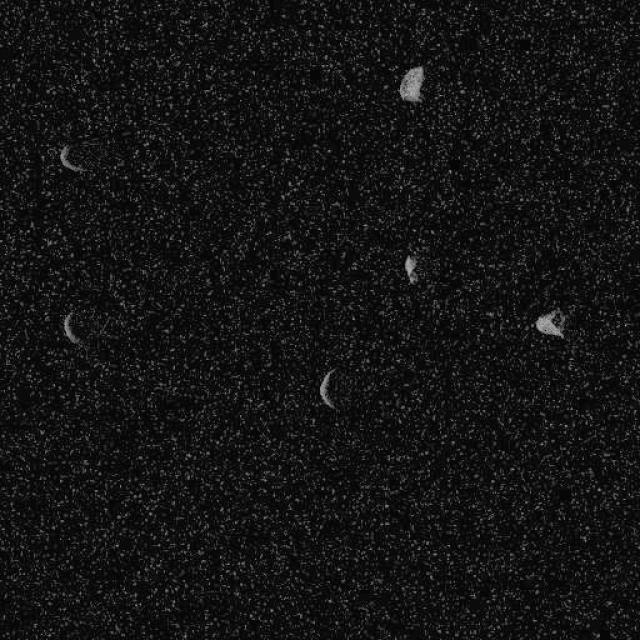D2: (397, 64, 425, 102), (534, 306, 566, 339), (58, 142, 88, 174), (317, 368, 338, 410), (61, 310, 80, 345), (402, 254, 418, 284)
